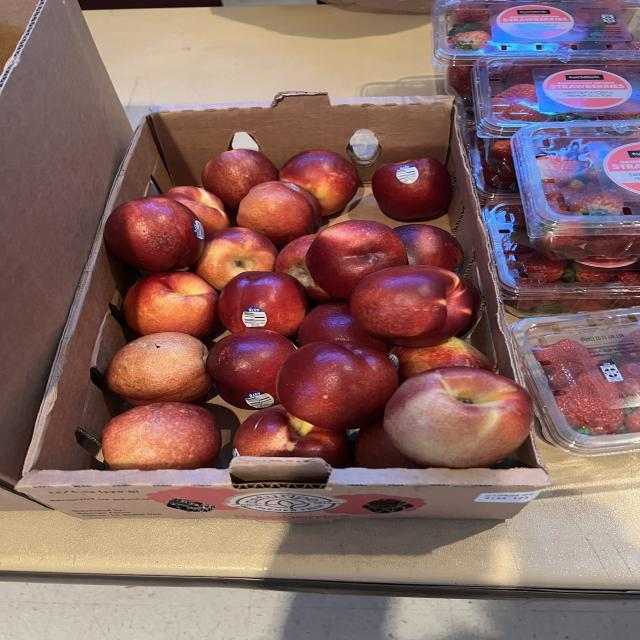Apple -Red-: (383, 366, 533, 469), (277, 341, 398, 430), (350, 265, 475, 348), (102, 402, 222, 470), (305, 220, 407, 299), (105, 332, 213, 405), (105, 196, 205, 271), (233, 405, 350, 469), (207, 329, 297, 410), (123, 271, 218, 338), (218, 271, 310, 336), (237, 181, 322, 248), (192, 228, 278, 290), (278, 150, 360, 215), (372, 158, 452, 219), (298, 302, 390, 354), (202, 149, 278, 211), (388, 338, 495, 382), (275, 234, 335, 301), (160, 186, 230, 234), (395, 224, 463, 271), (355, 420, 420, 469)
Strawberries: (472, 55, 638, 181), (432, 0, 640, 96), (510, 308, 640, 455), (483, 200, 640, 318), (512, 120, 640, 259), (463, 130, 520, 205)
